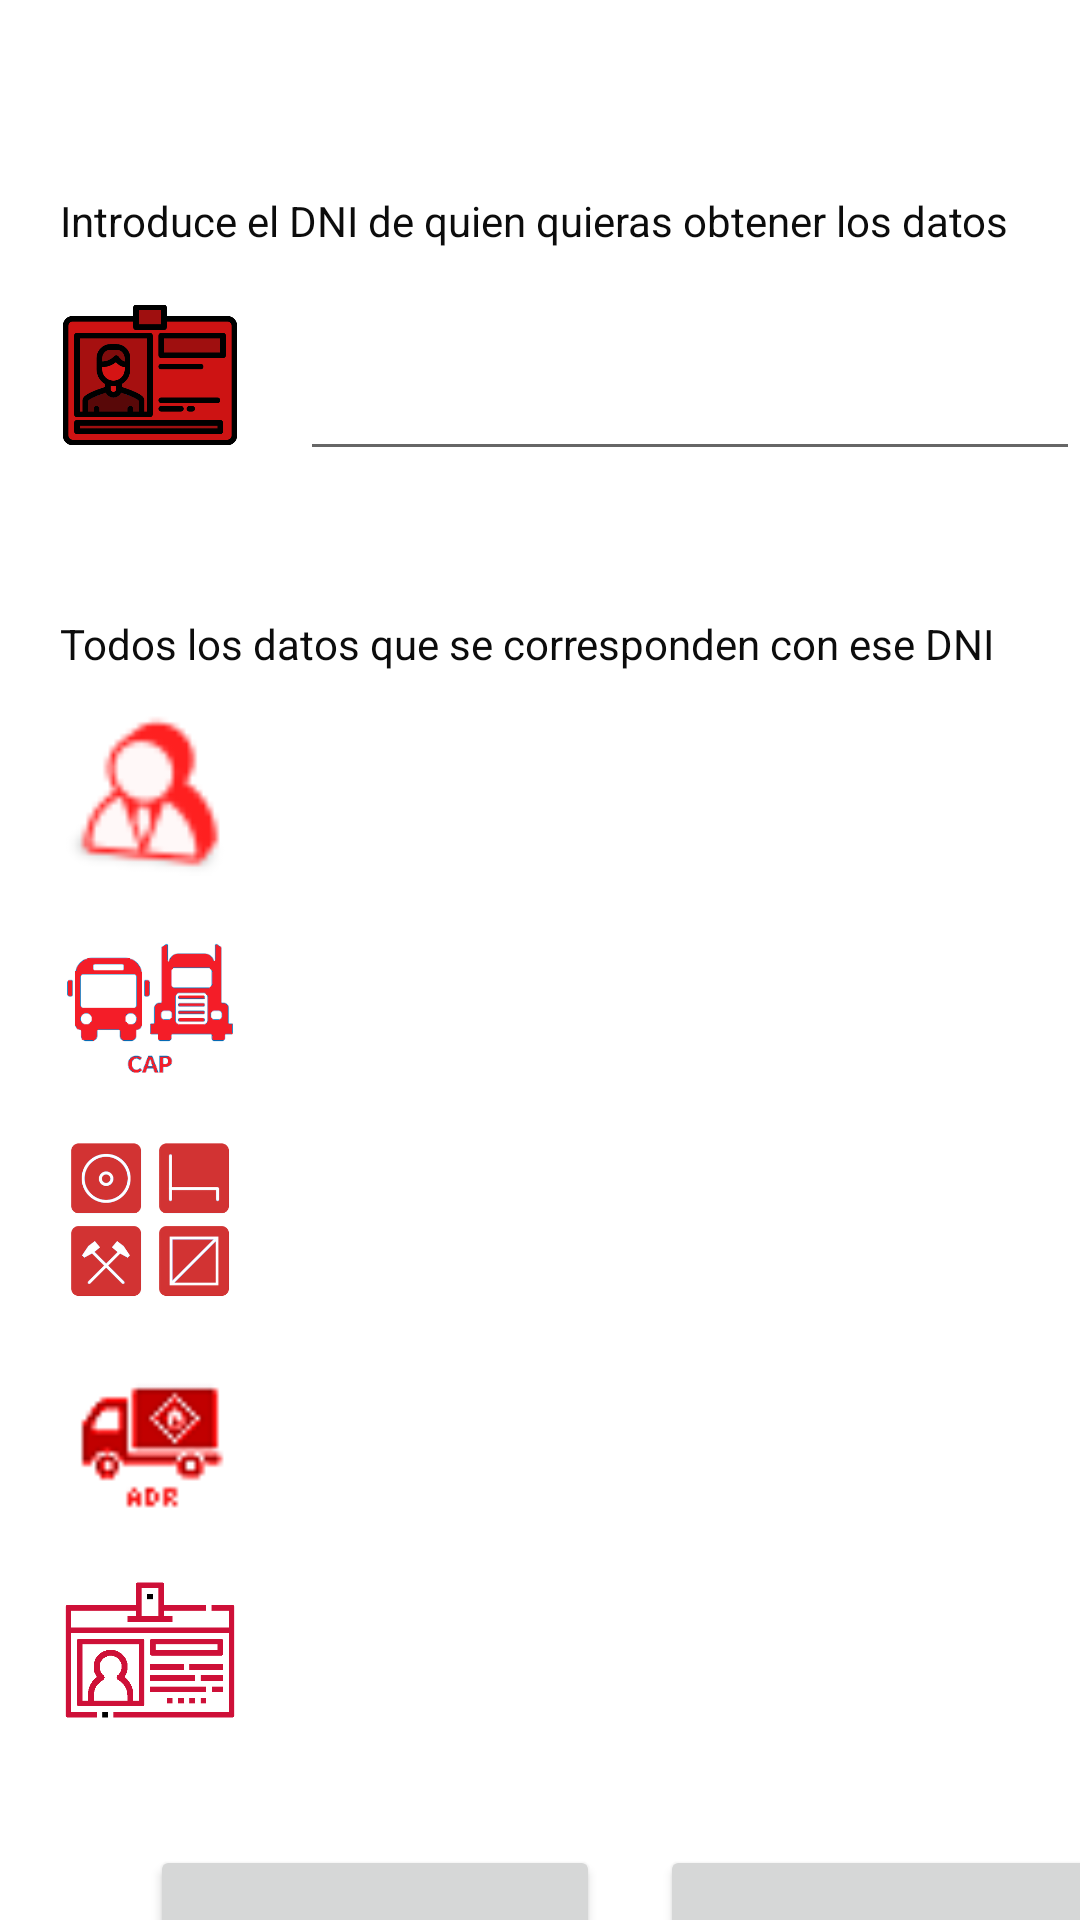

Where icons sit on this 1080*1920 app screen, as (x1, y1, x2, y2):
Introduce el nombre: (79, 719, 219, 867)
Introduce fecha de anterior emision del ADR: (81, 1387, 224, 1508)
Introduce fecha de anterior emision del CAP: (67, 944, 233, 1073)
Introduce fecha de anterior emision del permiso circulación: (65, 1582, 235, 1718)
